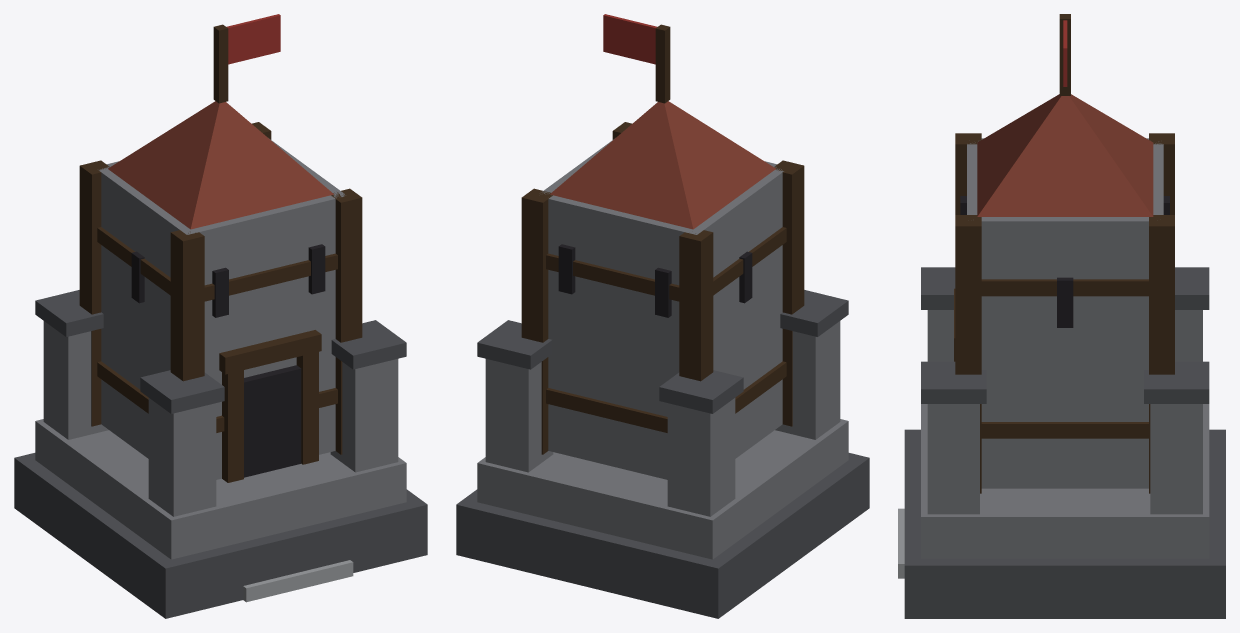
The model's file is base_l1_lowpoly.glb.
3 renders of one model, left to right at view 1: azimuth 30°, elevation 25°; view 2: azimuth 150°, elevation 25°; view 3: azimuth 270°, elevation 25°, orthographic. The views are drawn at different scales.
Parts seen in each view (by area): view 1: WORK_base; view 2: WORK_base; view 3: WORK_base.
Part boxes in pixels (left/top/right/bottom): WORK_base: left=14, top=14, right=427, bottom=618; WORK_base: left=456, top=14, right=869, bottom=618; WORK_base: left=898, top=14, right=1225, bottom=618.
Size of the model in its own units: 0.98 by 1.8 by 1.
